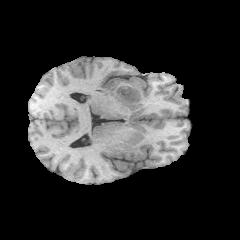glioma: (109, 78, 145, 105)
